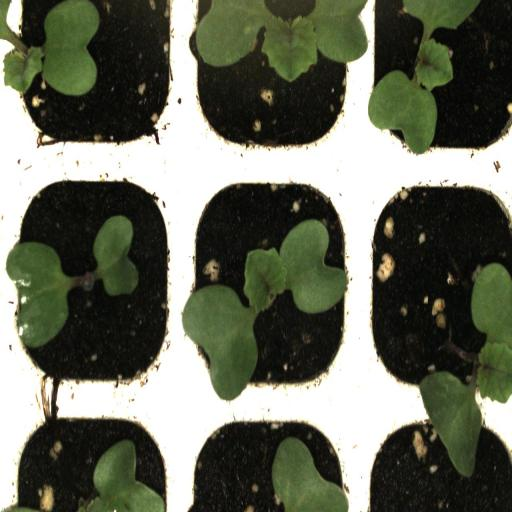Folha: (0, 0, 100, 97), (6, 241, 74, 348), (78, 439, 166, 512), (272, 437, 348, 512), (93, 215, 138, 296)
Germinacao: (0, 160, 182, 402), (183, 162, 360, 410), (358, 162, 512, 412), (186, 0, 362, 158), (364, 0, 512, 159)
